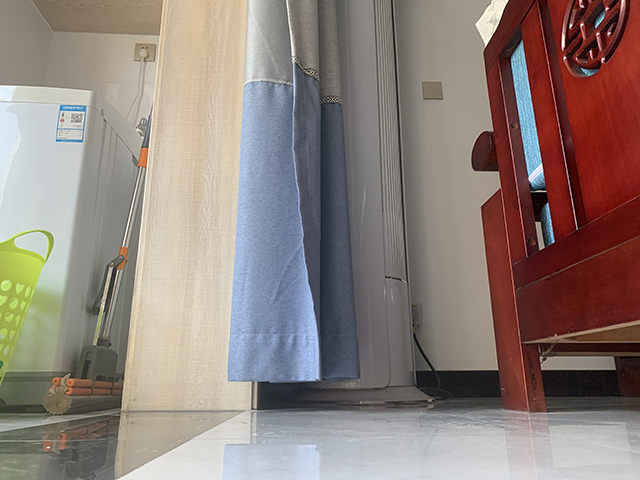curtain: (226, 1, 361, 384)
sofa: (469, 1, 640, 417)
wire: (412, 308, 453, 402)
